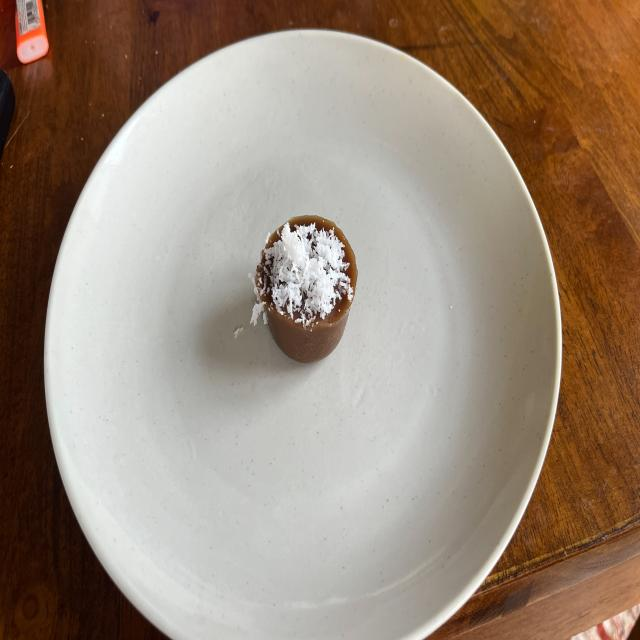Kuih lompang: (251, 216, 358, 362)
